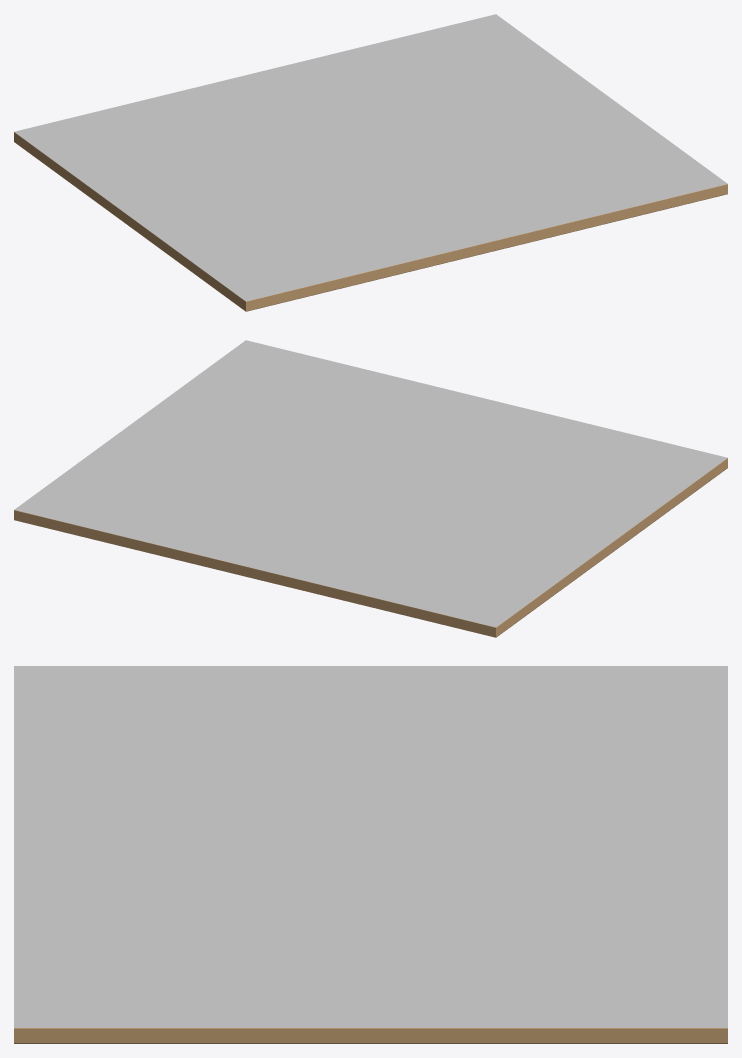
The model's file is backgammon.gltf.
The picture shows the model from 3 angles, top to bottom: view 1: azimuth 30°, elevation 25°; view 2: azimuth 150°, elevation 25°; view 3: azimuth 270°, elevation 25°; orthographic projection. The views are drawn at different scales.
Parts seen in each view (by area): view 1: G13; view 2: G13; view 3: G13.
Part boxes in pixels (<box>): G13: <box>14,14,727,311</box>; G13: <box>14,340,727,637</box>; G13: <box>14,666,727,1043</box>.
Bounding box in the file's own units: 0.492 × 0.01 × 0.41.
